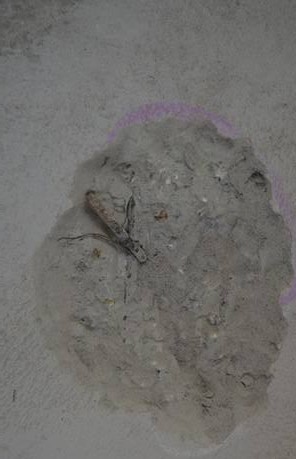Exposed reinforcement: (86, 191, 147, 264)
Spalling: (28, 115, 296, 450)
